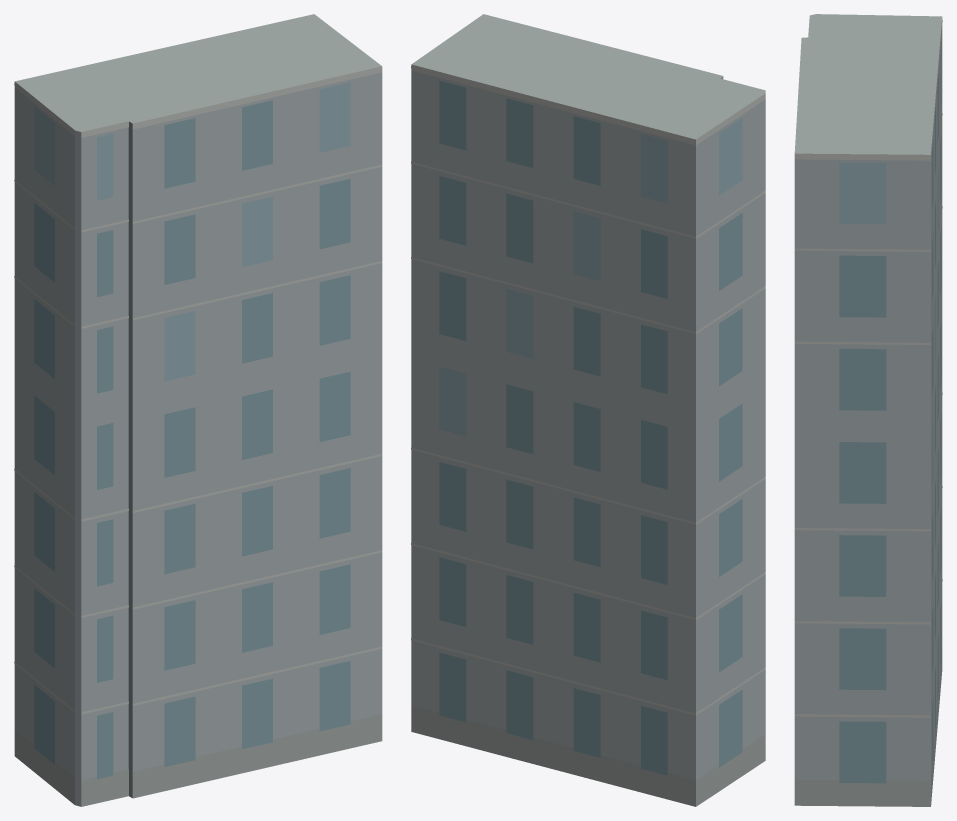
The model's file is survey-upis-32931077.glb.
The picture shows the model from 3 angles, left to right: view 1: azimuth 30°, elevation 25°; view 2: azimuth 150°, elevation 25°; view 3: azimuth 270°, elevation 25°; orthographic projection. The views are drawn at different scales.
Visible parts, largest first — view 1: survey-upis-32931077.tmp; view 2: survey-upis-32931077.tmp; view 3: survey-upis-32931077.tmp.
Part boxes in pixels (box(x1,y1,x2,y2)): survey-upis-32931077.tmp: box(14, 14, 382, 806); survey-upis-32931077.tmp: box(411, 14, 765, 806); survey-upis-32931077.tmp: box(794, 14, 942, 806).
Size of the model in its own units: 12.8 by 27.57 by 5.69.
